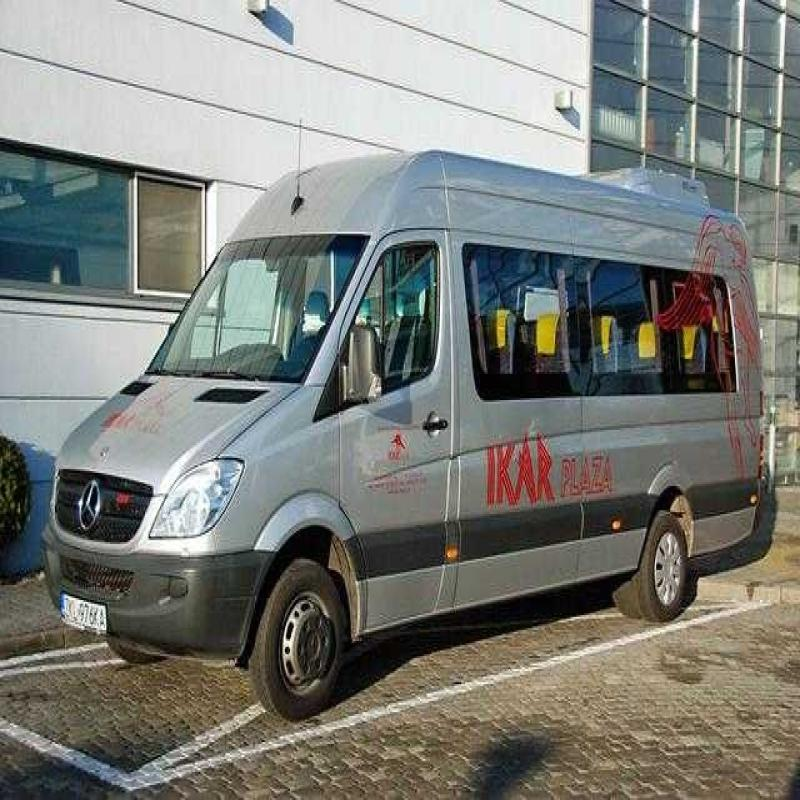bus: (45, 123, 800, 763)
